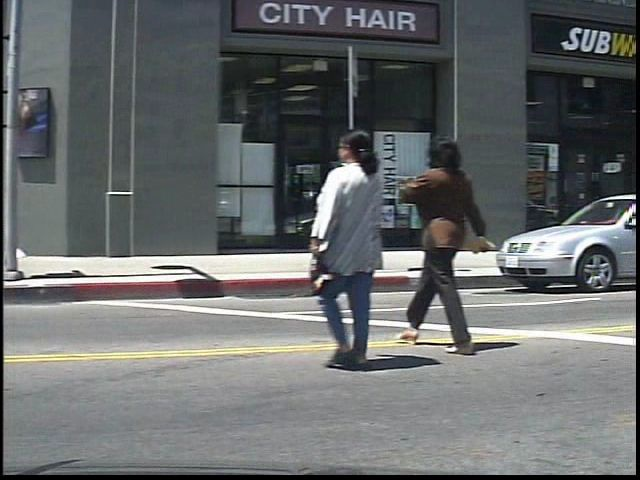person: (408, 125, 507, 356), (316, 122, 405, 372)
